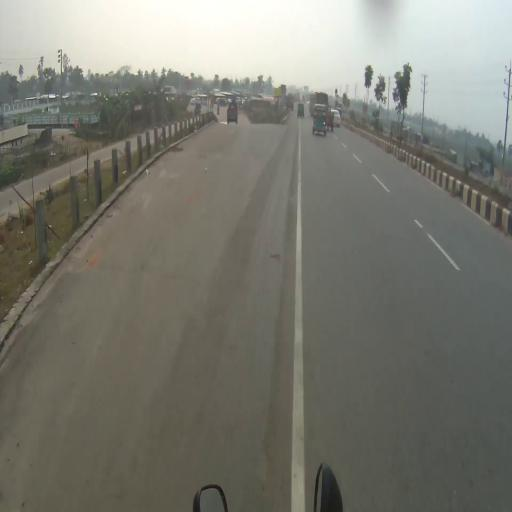car: (335, 111, 341, 128), (192, 98, 202, 105)
motorbike: (218, 106, 220, 115)
pickup: (227, 102, 239, 125)
three wheelers (CNG): (314, 104, 328, 136), (298, 104, 305, 117)
truck: (287, 94, 294, 111)
